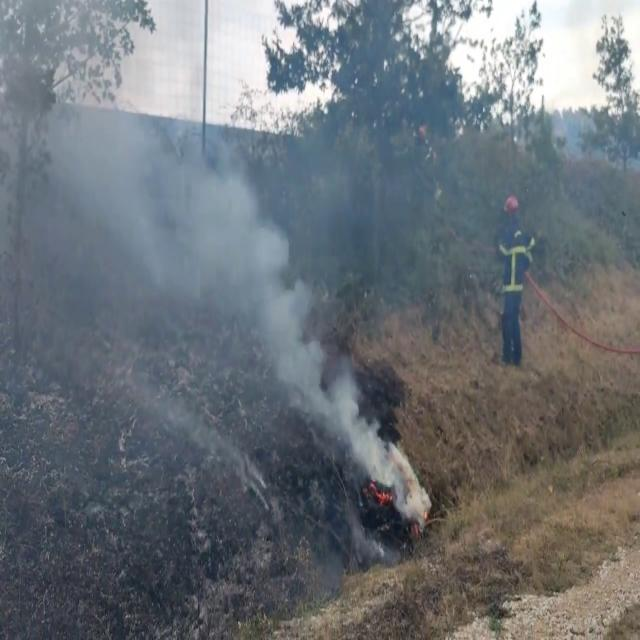Smoke: (1, 22, 420, 543)
